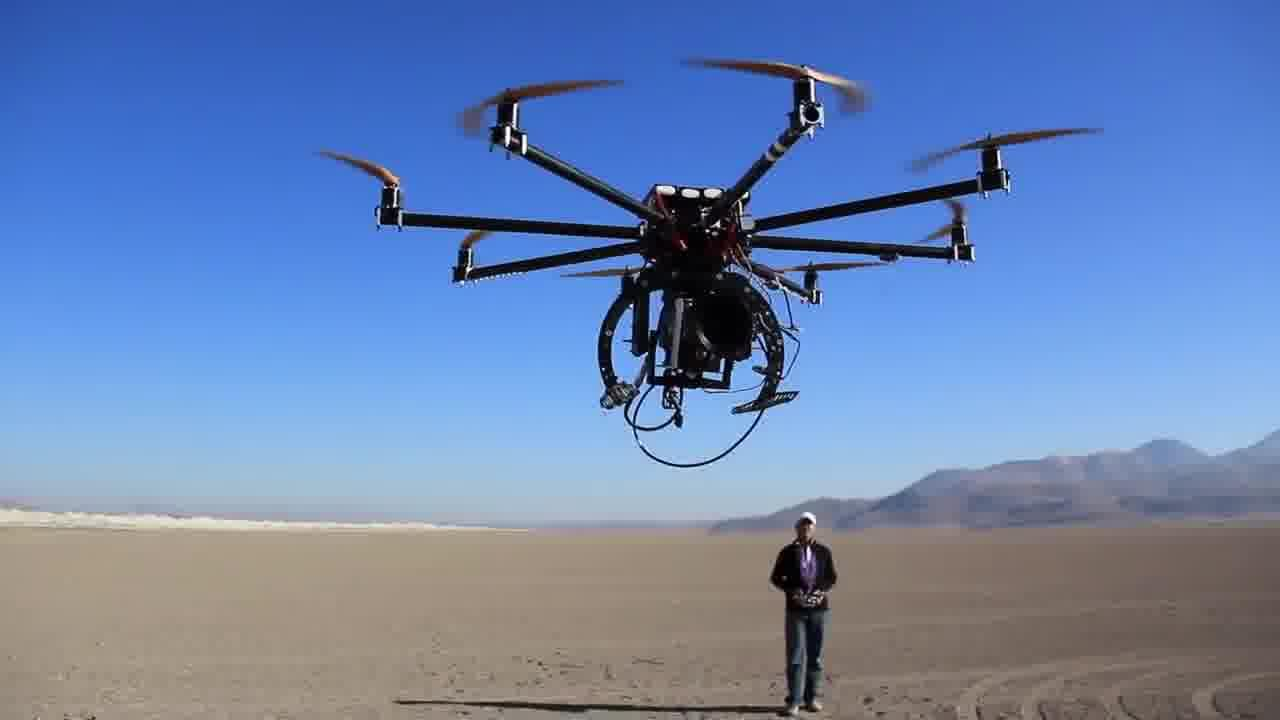drone: (301, 26, 856, 429)
